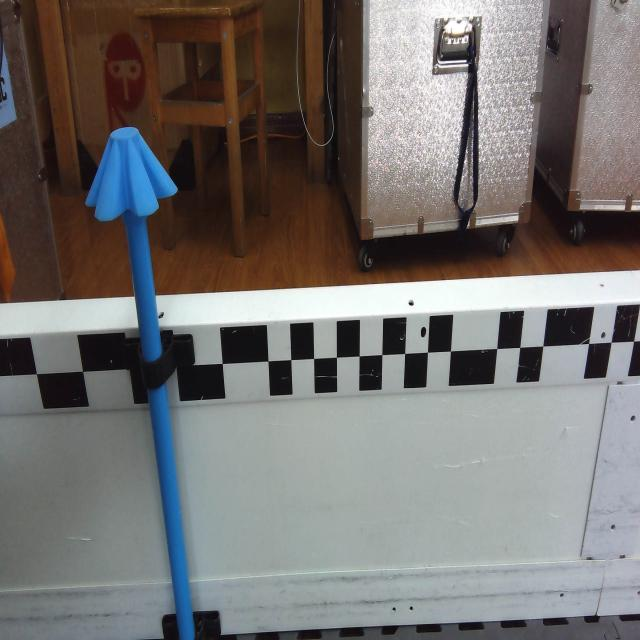zblue-Stake-Head: (86, 123, 176, 222)
